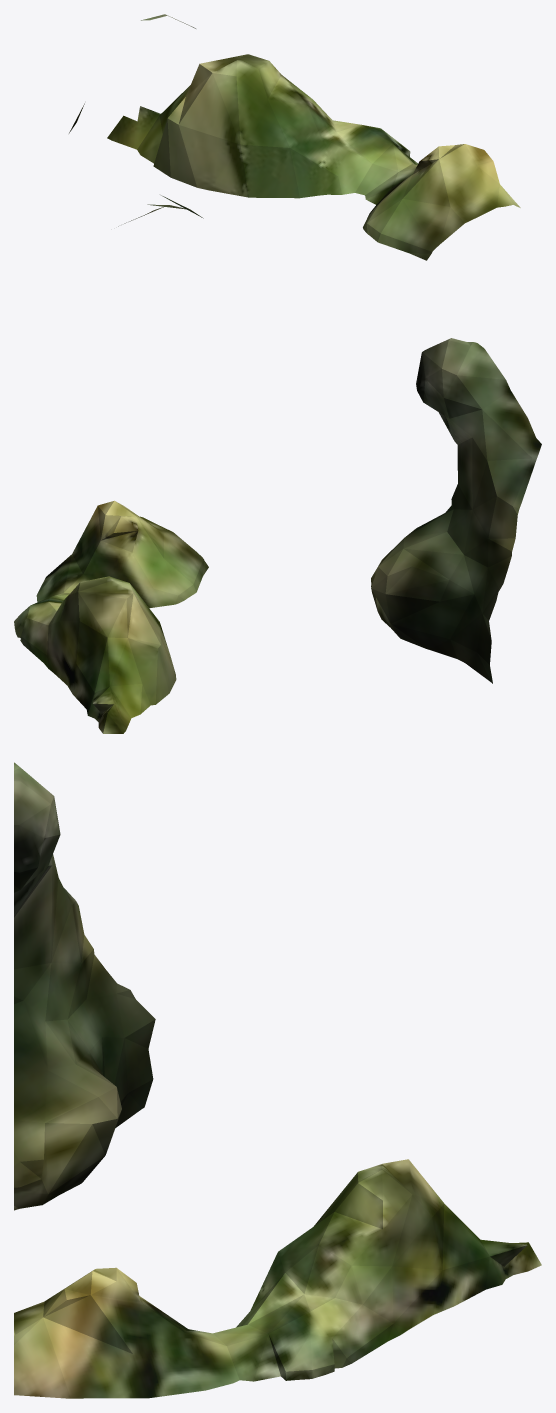
3 renders of one model, top to bottom at view 1: azimuth 30°, elevation 25°; view 2: azimuth 150°, elevation 25°; view 3: azimuth 270°, elevation 25°, orthographic. The views are drawn at different scales.
Bounding box in the file's own units: 0.6133 × 0.3806 × 0.4698.
1 material, 1 textured.
